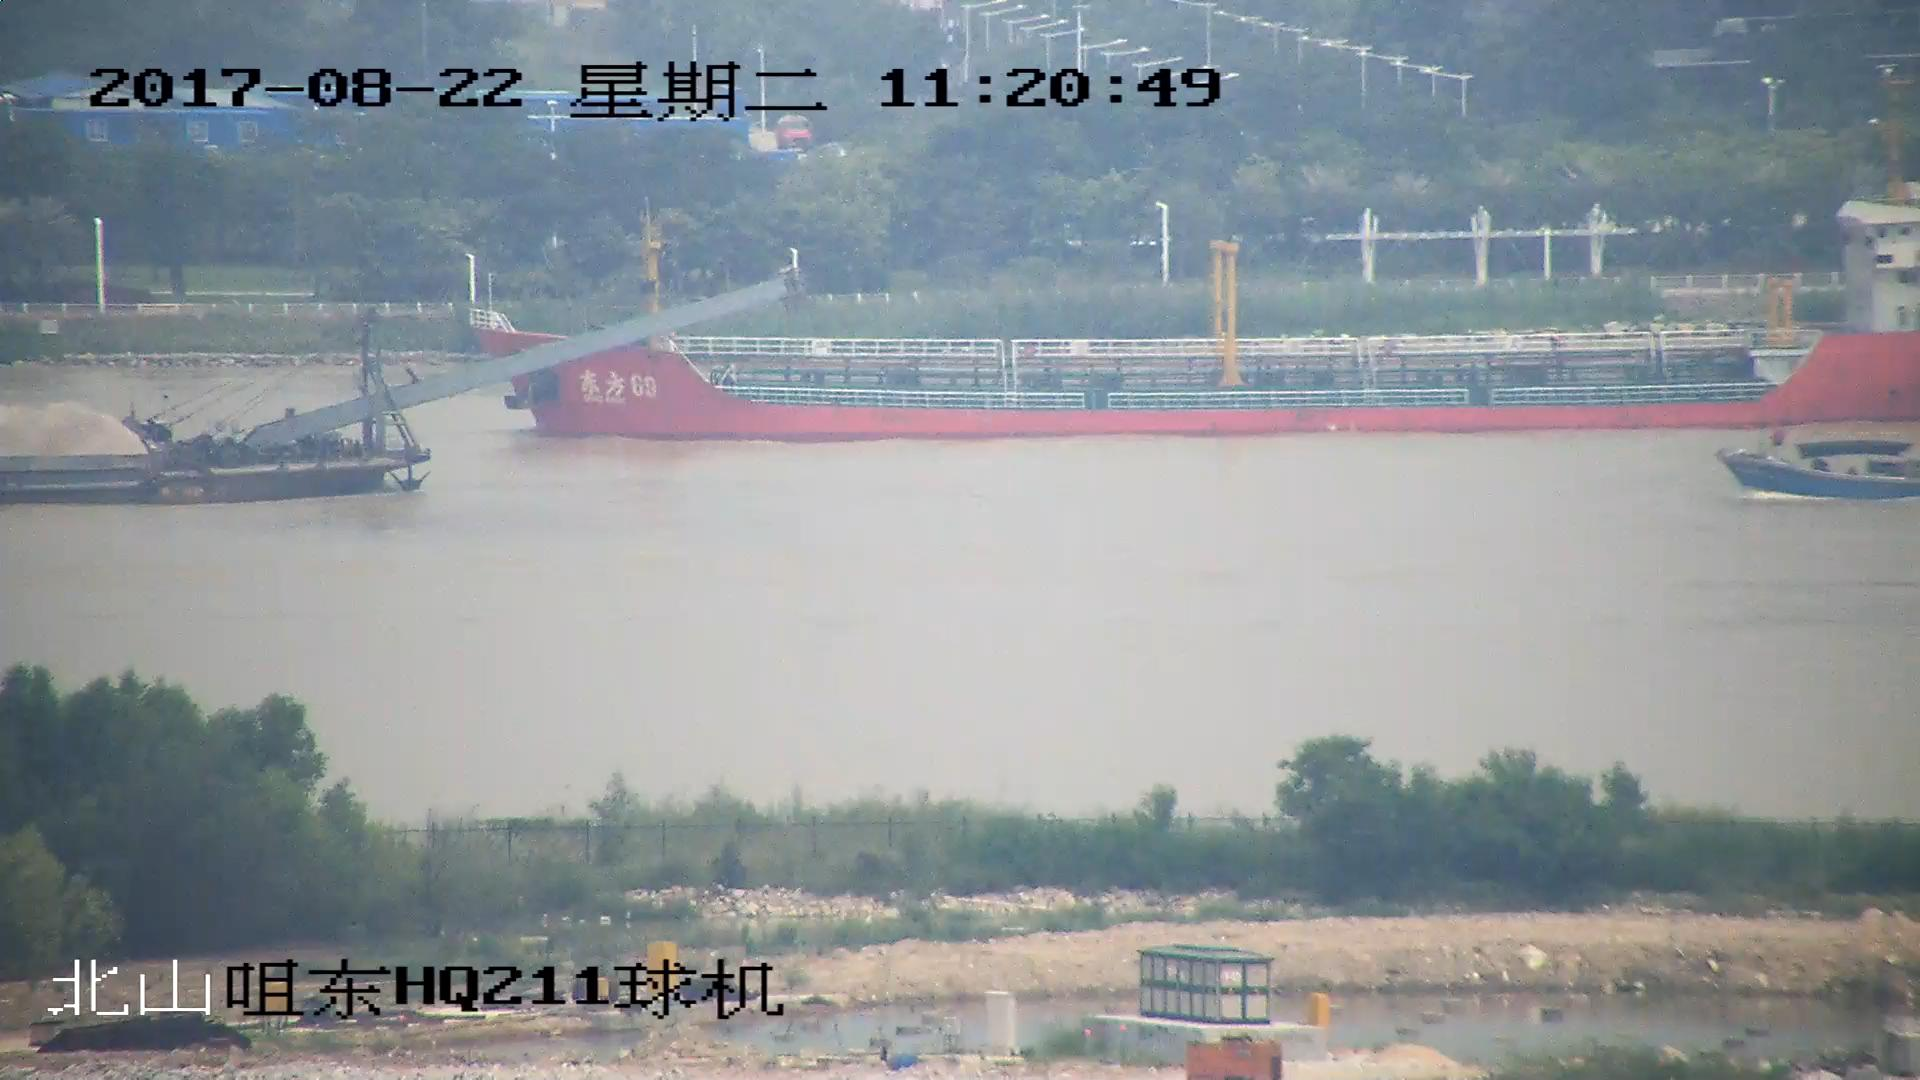fishing boat: (1719, 431, 1920, 499)
general cargo ship: (465, 112, 1920, 436)
ore carrier: (1, 273, 789, 505)
